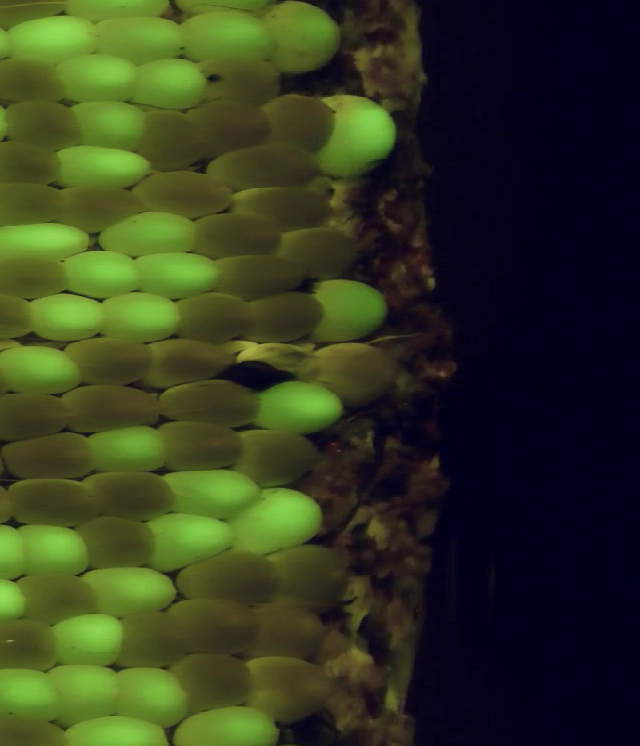fluorescent: (305, 87, 403, 184), (216, 484, 327, 561), (260, 1, 350, 78), (139, 510, 243, 575), (245, 377, 347, 441), (175, 5, 282, 66), (303, 276, 396, 346), (77, 562, 182, 623), (159, 466, 269, 524), (0, 10, 103, 68), (86, 13, 190, 70), (94, 208, 203, 261), (110, 664, 196, 729), (127, 248, 225, 305), (42, 660, 124, 728), (164, 701, 287, 746), (94, 289, 186, 349), (52, 141, 156, 193), (45, 610, 129, 674), (65, 95, 154, 155), (81, 422, 174, 479), (129, 53, 213, 116), (12, 521, 97, 582), (0, 342, 87, 401), (50, 49, 141, 105), (24, 290, 111, 345), (56, 249, 146, 302), (0, 662, 71, 728), (0, 221, 95, 266), (56, 713, 176, 746), (0, 573, 32, 630)
nonfluorescent: (238, 653, 338, 730), (167, 545, 287, 609), (304, 335, 406, 408), (256, 542, 359, 614), (198, 139, 325, 196), (162, 595, 269, 661), (150, 375, 266, 432), (227, 426, 327, 490), (241, 597, 335, 664), (165, 649, 255, 718), (151, 414, 250, 476), (201, 248, 315, 301), (10, 567, 104, 631), (79, 468, 179, 528), (0, 427, 103, 485), (129, 167, 240, 220), (59, 331, 157, 391), (185, 208, 288, 265), (57, 380, 164, 434), (131, 103, 212, 174), (253, 92, 344, 155), (228, 183, 340, 234), (1, 473, 103, 529), (192, 52, 288, 111), (141, 334, 240, 391), (186, 92, 274, 156), (273, 220, 363, 282), (240, 286, 333, 346), (170, 288, 261, 348), (0, 95, 88, 155), (56, 180, 153, 234), (75, 514, 161, 572), (113, 604, 186, 672), (0, 612, 70, 678), (0, 388, 81, 444), (0, 55, 77, 108), (0, 178, 78, 230), (0, 250, 74, 304), (0, 139, 71, 188), (0, 711, 75, 746), (0, 290, 42, 345)
